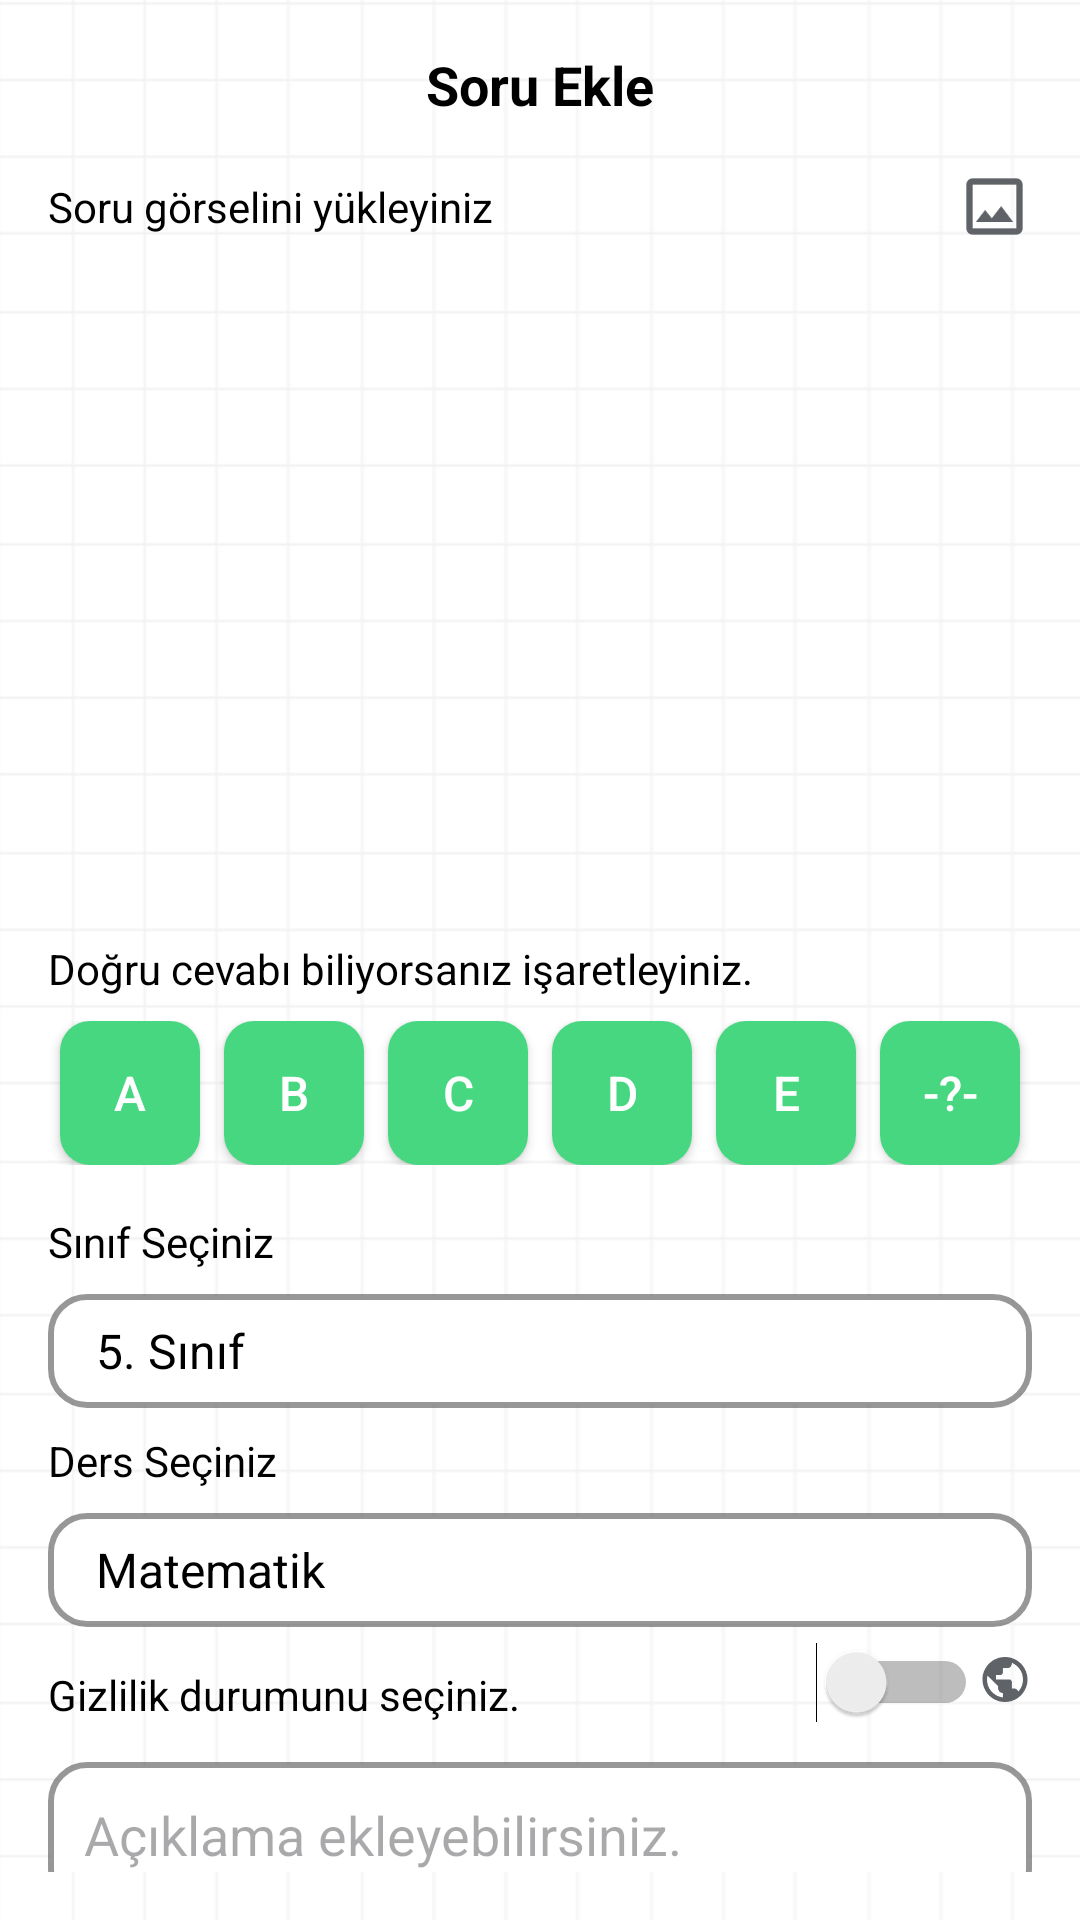

Point at icon controls on the screen. Image size 1080×1920, points as (x=x, y=y).
gallery: (x=994, y=206)
public: (x=1005, y=1679)
